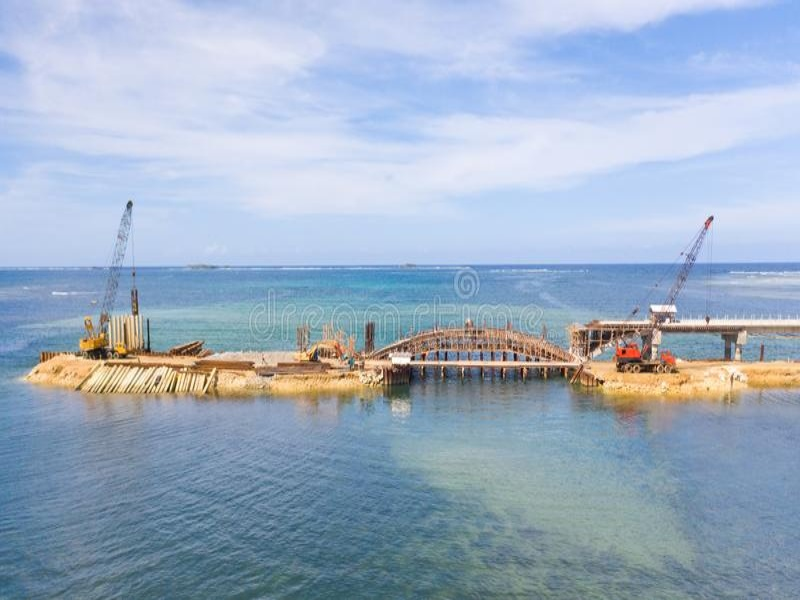crane: (607, 215, 721, 376), (74, 195, 144, 365)
